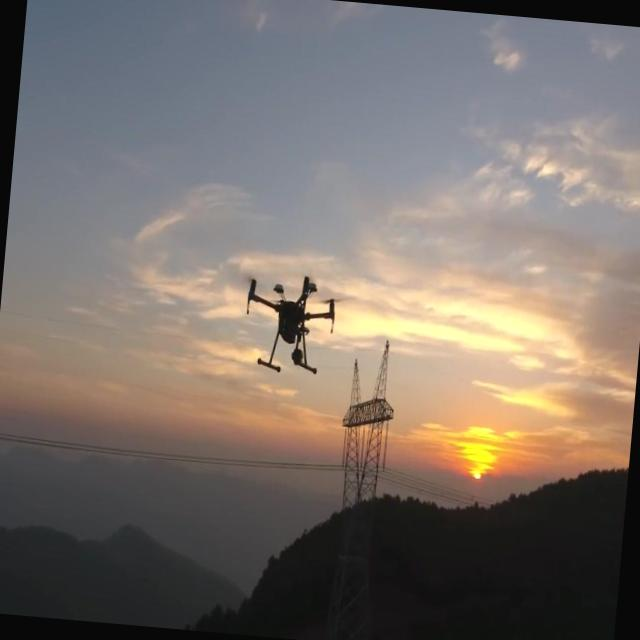drone: (238, 268, 340, 382)
